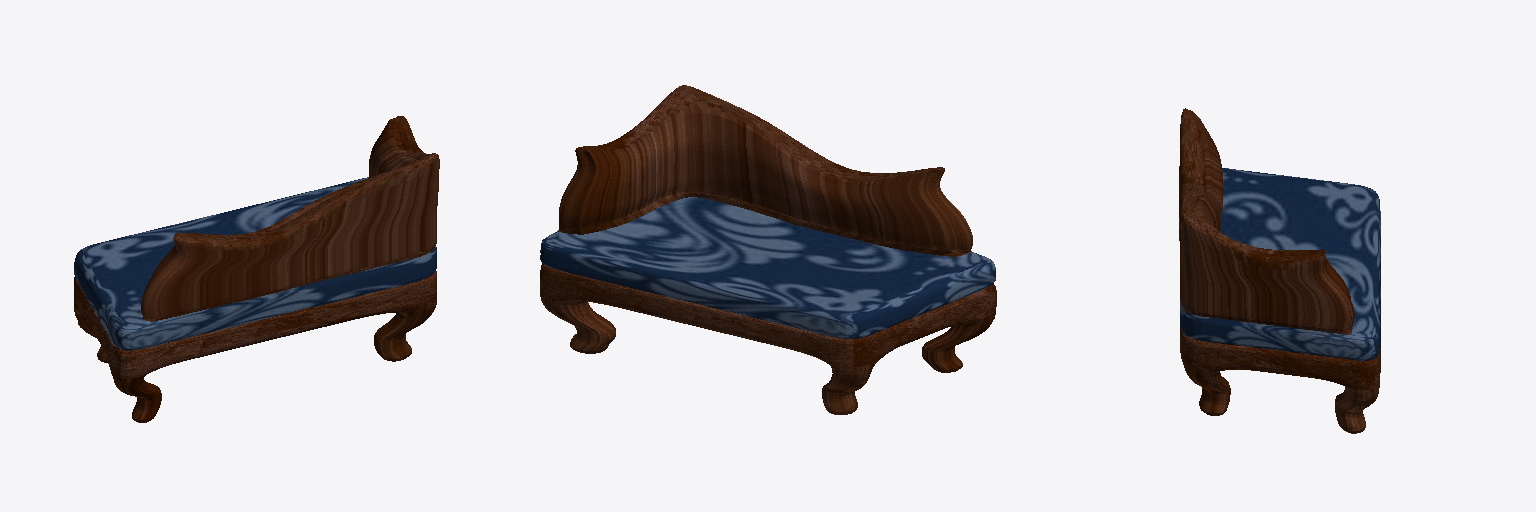
3 renders of one model, left to right at view 1: azimuth 30°, elevation 25°; view 2: azimuth 150°, elevation 25°; view 3: azimuth 270°, elevation 25°, orthographic.
Visible parts, largest first — view 1: pCube1 polySurface1 polySurface5, pCube1 polySurface3 polySurface1, polySurface2 pCube1; view 2: pCube1 polySurface3 polySurface1, polySurface2 pCube1, pCube1 polySurface1 polySurface5; view 3: pCube1 polySurface1 polySurface5, pCube1 polySurface3 polySurface1, polySurface2 pCube1.
Boxes of the visible parts, x1,y1,x2,y2 form: pCube1 polySurface1 polySurface5: [74, 116, 439, 422]; pCube1 polySurface3 polySurface1: [74, 177, 436, 350]; polySurface2 pCube1: [152, 116, 416, 275]; pCube1 polySurface3 polySurface1: [540, 197, 995, 338]; polySurface2 pCube1: [570, 104, 958, 251]; pCube1 polySurface1 polySurface5: [540, 85, 996, 414]; pCube1 polySurface1 polySurface5: [1179, 108, 1380, 433]; pCube1 polySurface3 polySurface1: [1179, 168, 1380, 360]; polySurface2 pCube1: [1191, 111, 1350, 299].
Bounding box in the file's own units: 7.54 × 4.1 × 3.6.
2 materials, 2 textured.